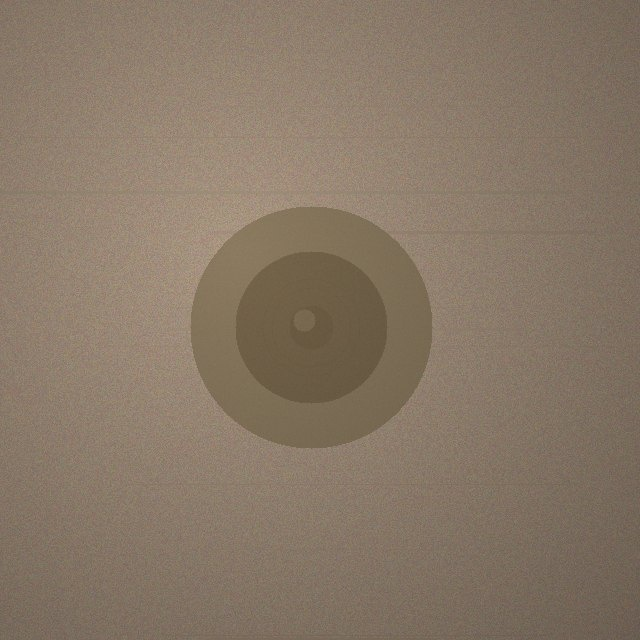good: (190, 206, 432, 448)
